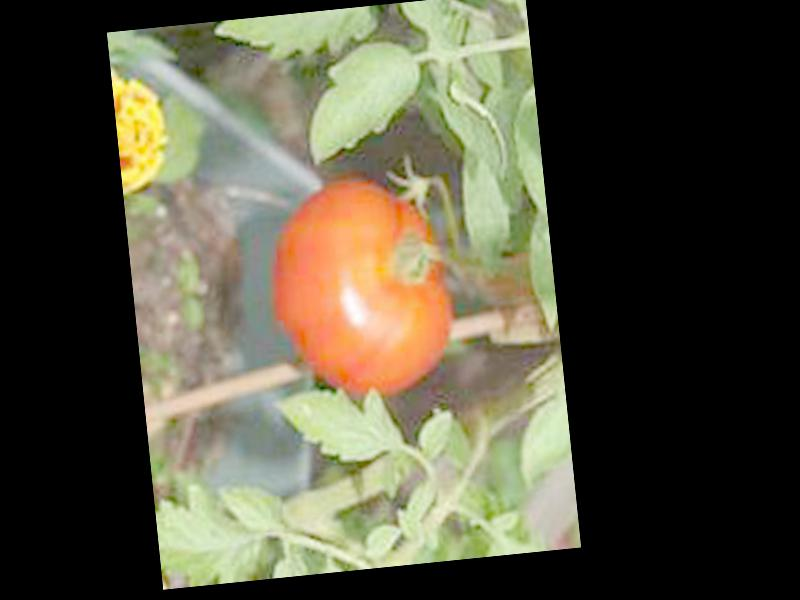Tomato: (264, 168, 461, 408)
